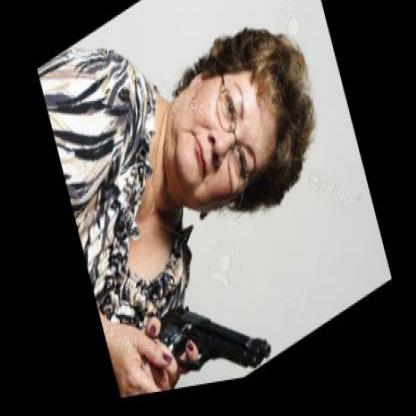pistol: (134, 253, 274, 395)
